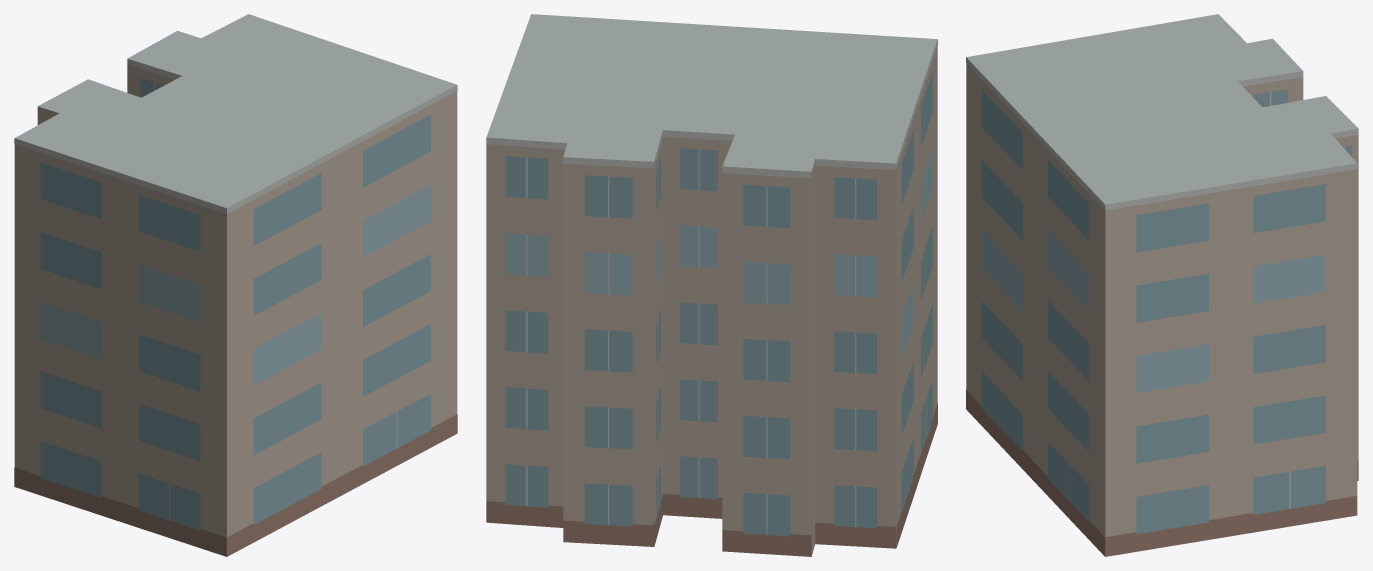
File: survey-upis-33001244.glb
3 renders of one model, left to right at view 1: azimuth 30°, elevation 25°; view 2: azimuth 150°, elevation 25°; view 3: azimuth 270°, elevation 25°, orthographic. The views are drawn at different scales.
Visible parts, largest first — view 1: survey-upis-33001244.tmp; view 2: survey-upis-33001244.tmp; view 3: survey-upis-33001244.tmp.
Boxes of the visible parts, <box> form: survey-upis-33001244.tmp: <box>14,14,457,556</box>; survey-upis-33001244.tmp: <box>486,14,937,556</box>; survey-upis-33001244.tmp: <box>966,14,1358,556</box>.
Bounding box in the file's own units: 16.61 × 14.3 × 14.45.
